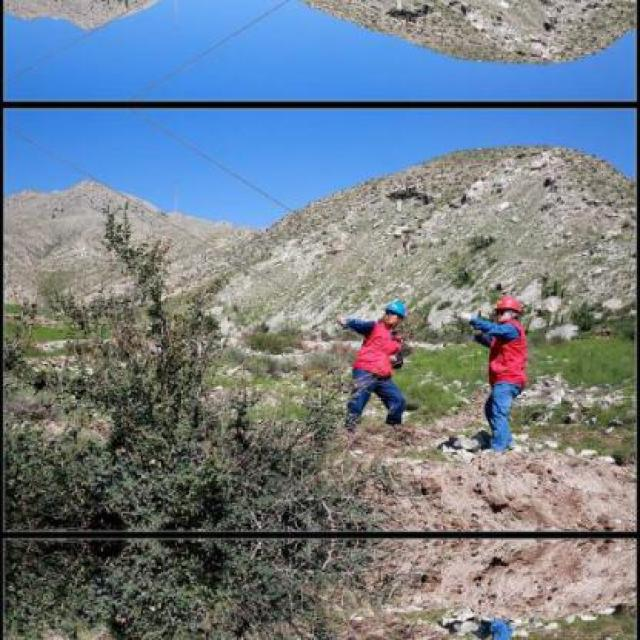helmet: (493, 289, 525, 323), (381, 297, 407, 328)
